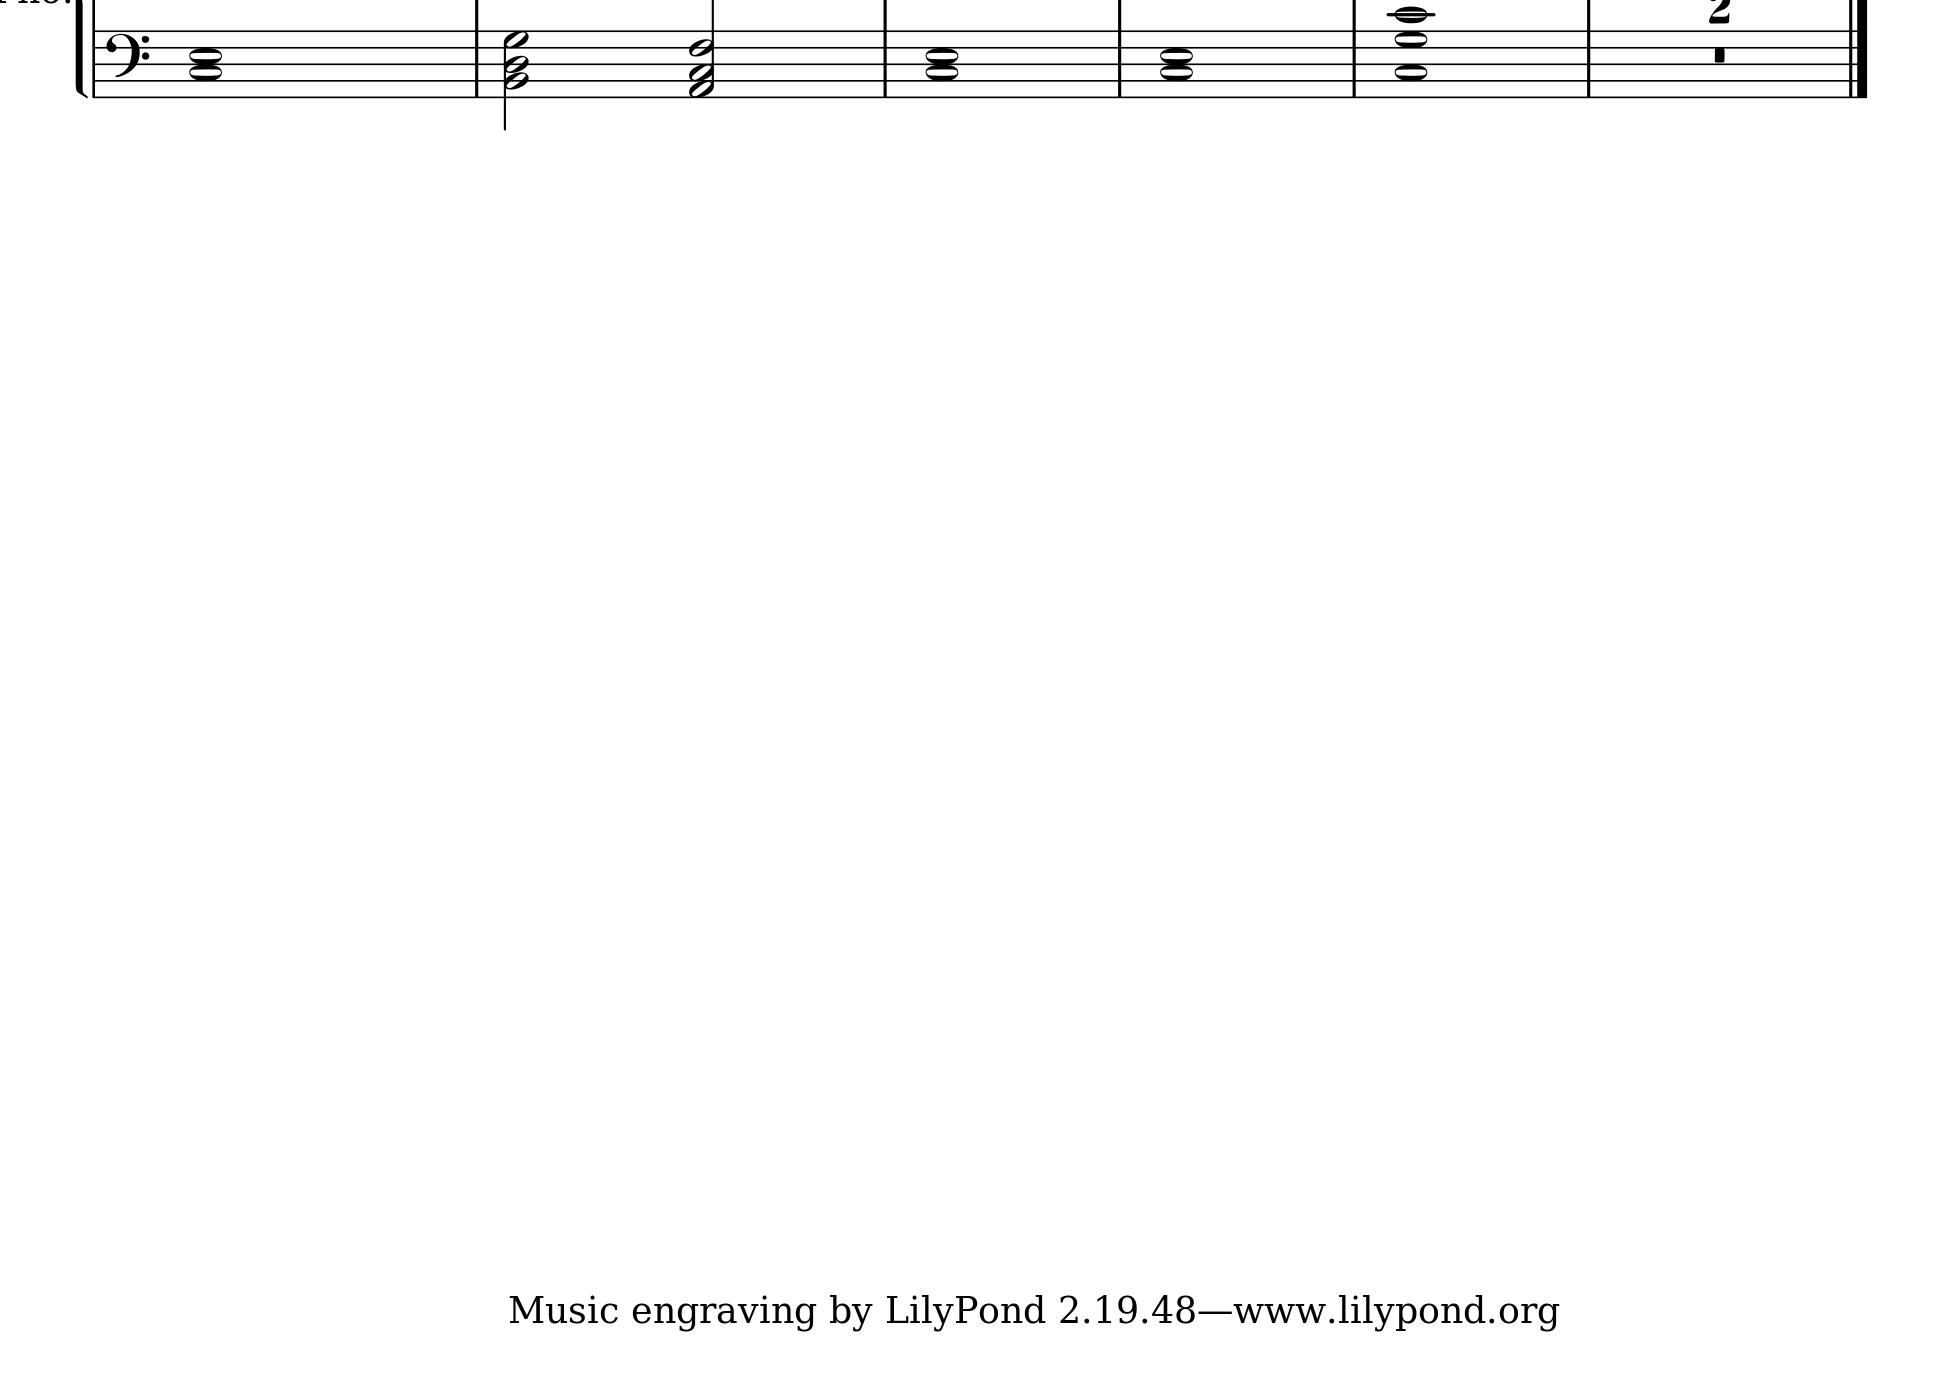1_3_5: (186, 28, 223, 99), (924, 28, 961, 99), (1158, 28, 1195, 97)
1_th: (1386, 1, 1437, 96)
2_th: (687, 1, 718, 103), (502, 28, 529, 130)
Fclef: (105, 28, 151, 97)
Final_barline: (1842, 30, 1869, 97)
Single_barline: (468, 28, 487, 97), (1110, 30, 1129, 97), (1345, 30, 1365, 97), (876, 28, 894, 97), (1579, 30, 1597, 97), (88, 31, 102, 97)
